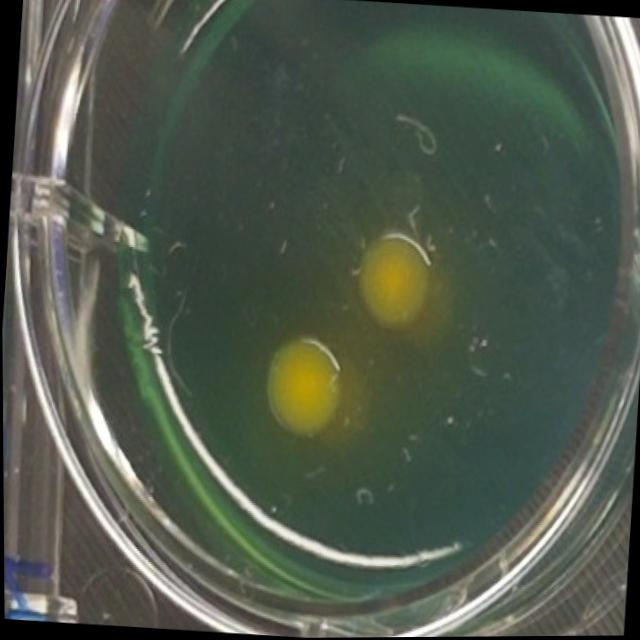vibrio: (253, 327, 348, 448), (346, 219, 442, 334)
